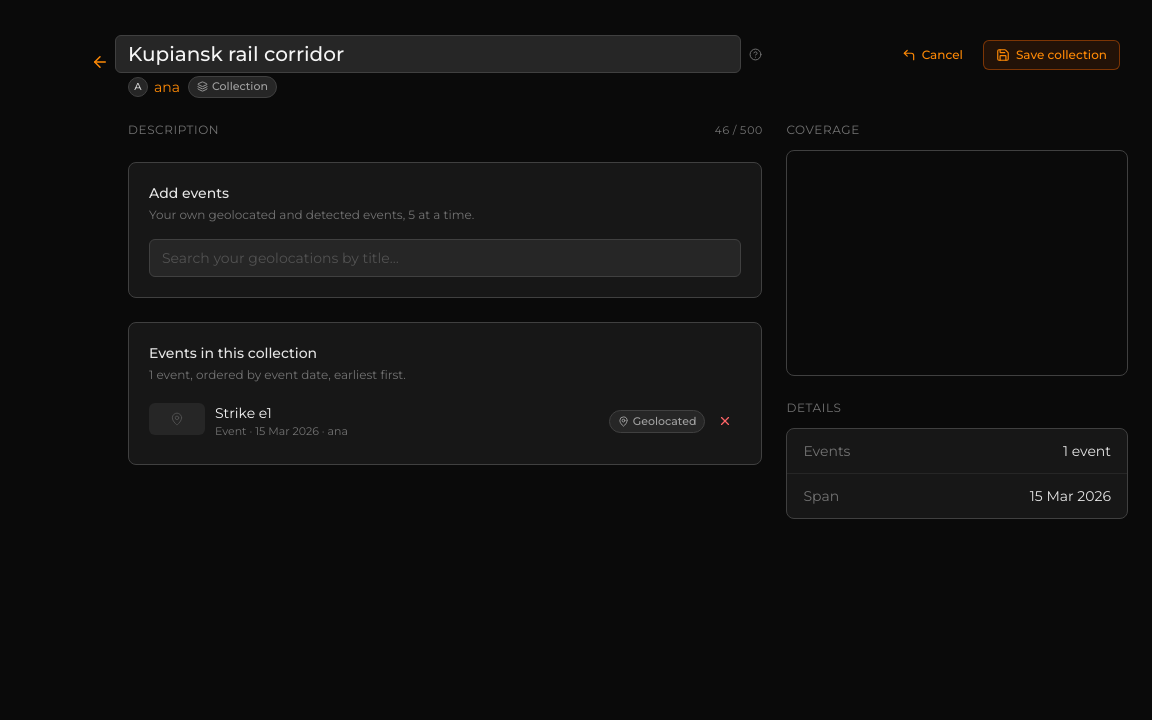
Test case: EditCollectionPage › stops at the first refusal the difference meets
expect the text box named "Title" is shown: met, box [115, 35, 741, 73]
What coordinates should you click on to do the following:
click the button named "Remove Strike e1 from this collection"
I would click on:
 (725, 422)
Its box is [709, 406, 741, 438].
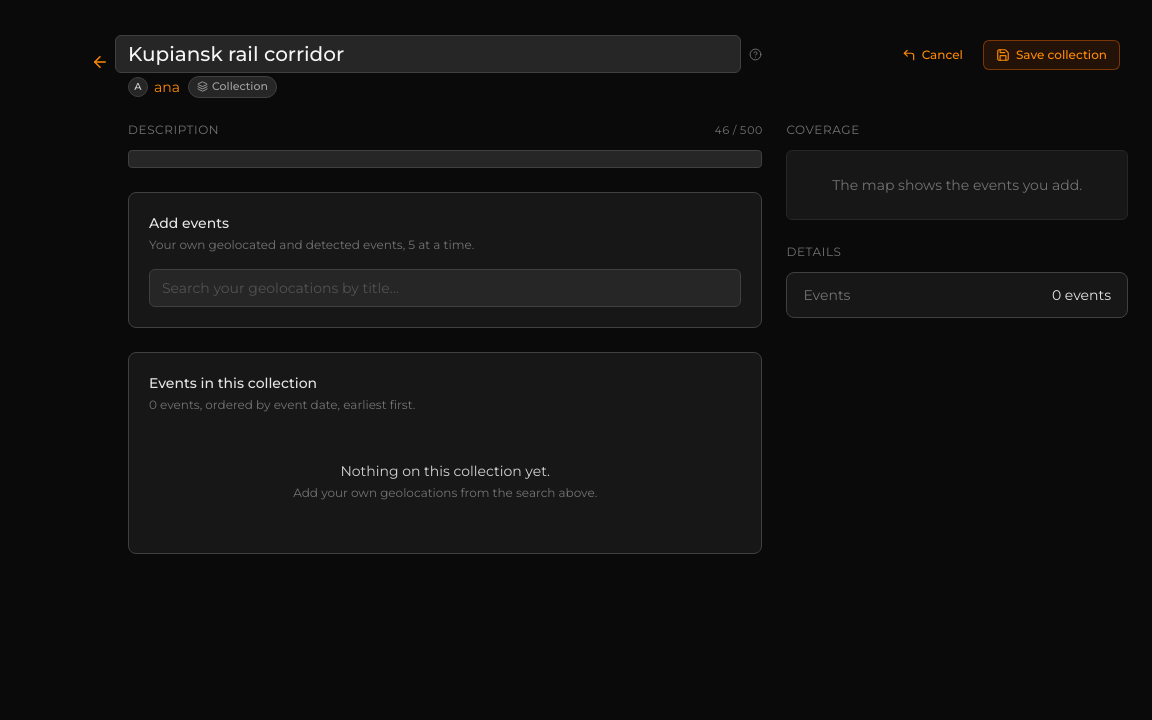
What coordinates should you click on to do the following:
click the button "Save collection"
I would click on:
 (1051, 55)
Its box is [983, 40, 1120, 70].
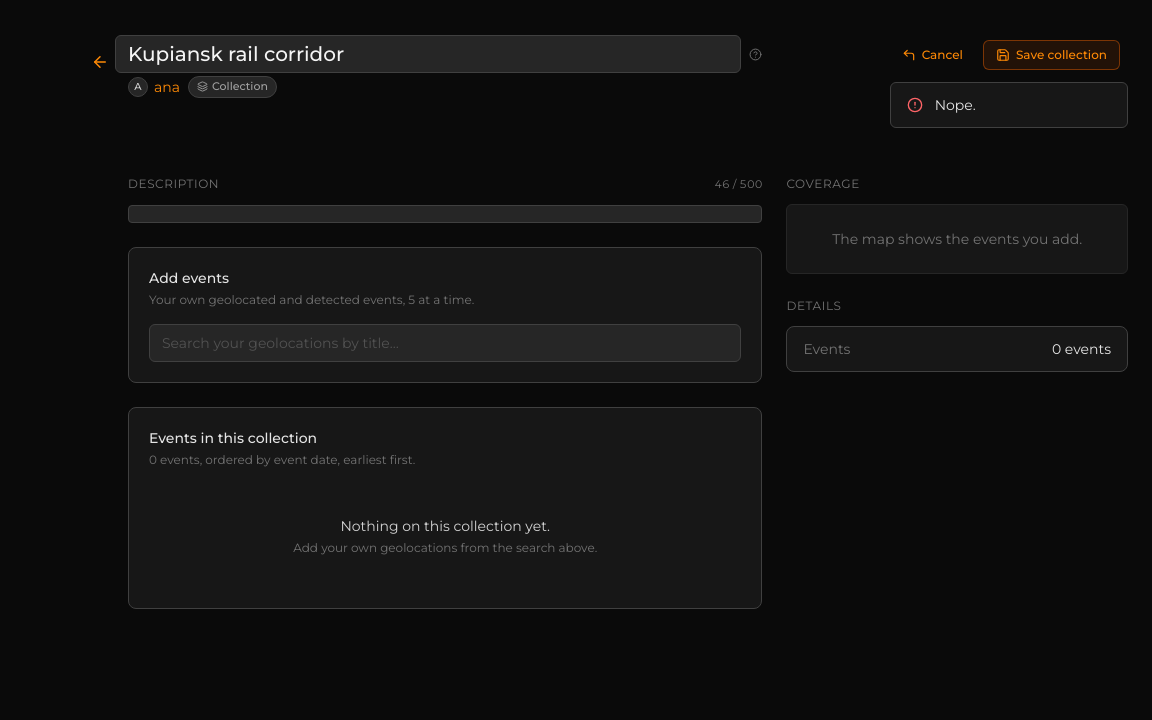
expect the text "Nope." is shown: met, box [935, 96, 976, 114]
